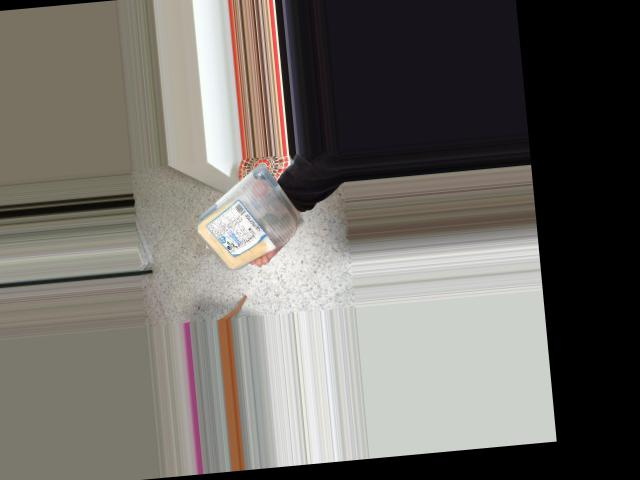cheese: (193, 202, 290, 262)
